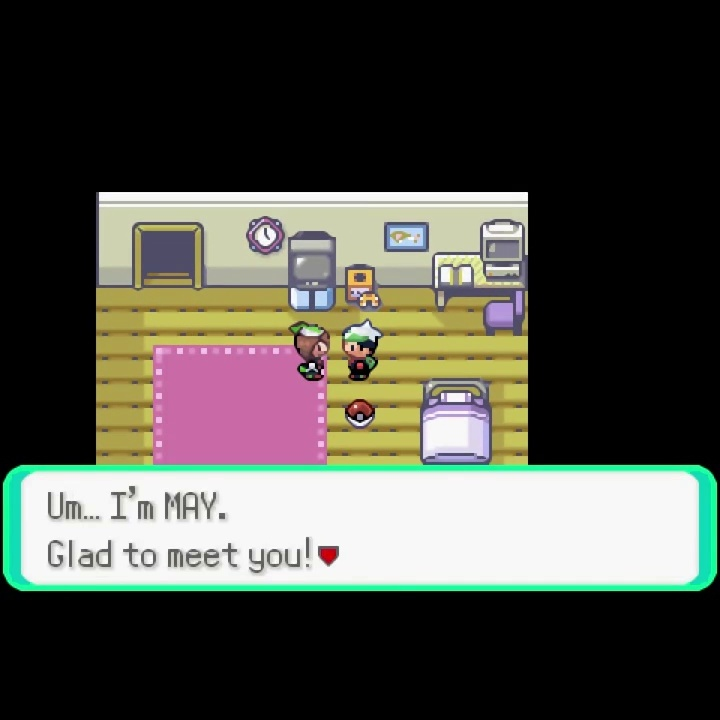npc: (338, 316, 385, 386), (287, 320, 333, 383)
